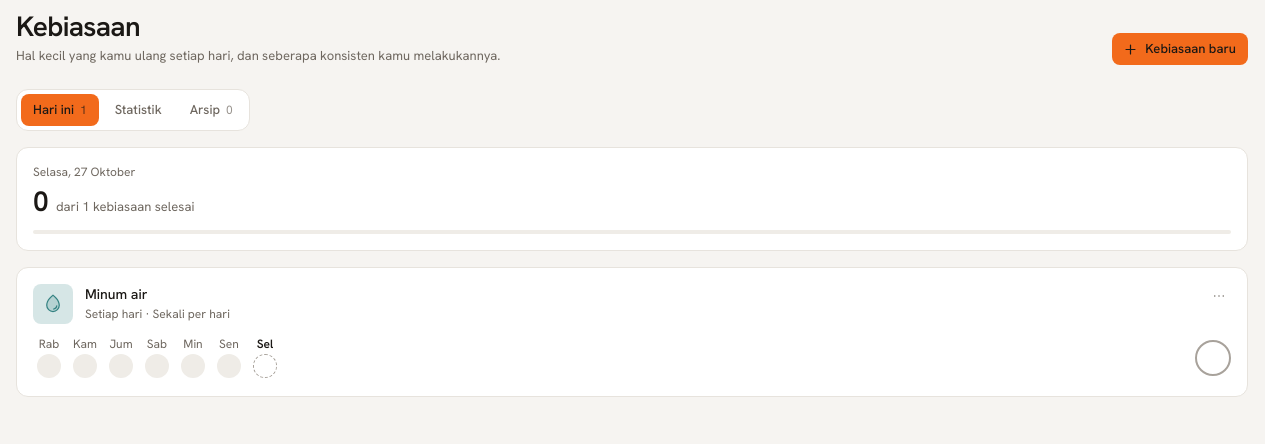
Scenario: today list › checks a plain habit off and takes the check back
Click the button named "Selesaikan Minum air".
click(1213, 358)  # box [1195,340,1231,376]
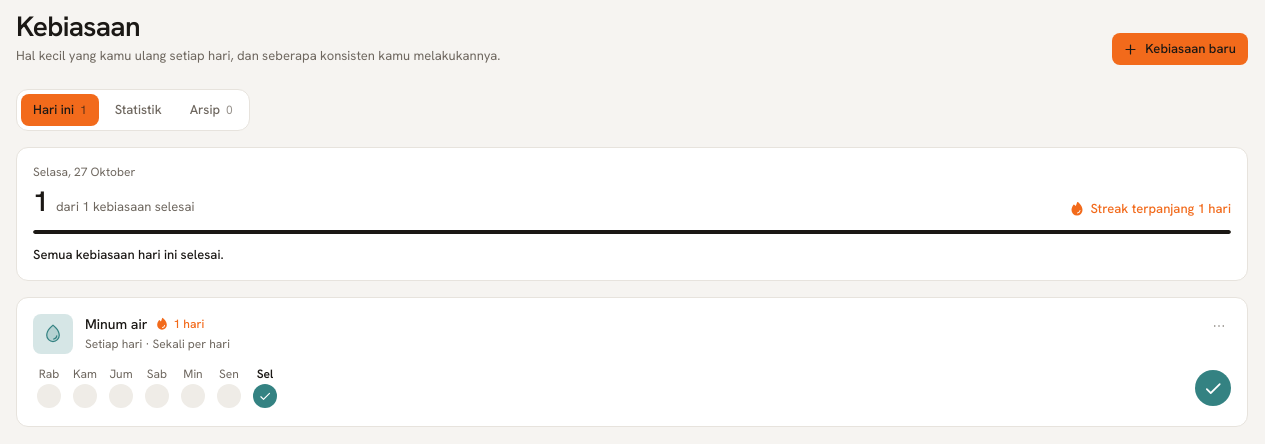
Expected: the text "dari 1 kebiasaan selesai" is shown, [56,198,194,215]
Click the button named "Batalkan Minum air".
click(1213, 388)  # box [1195,370,1231,406]
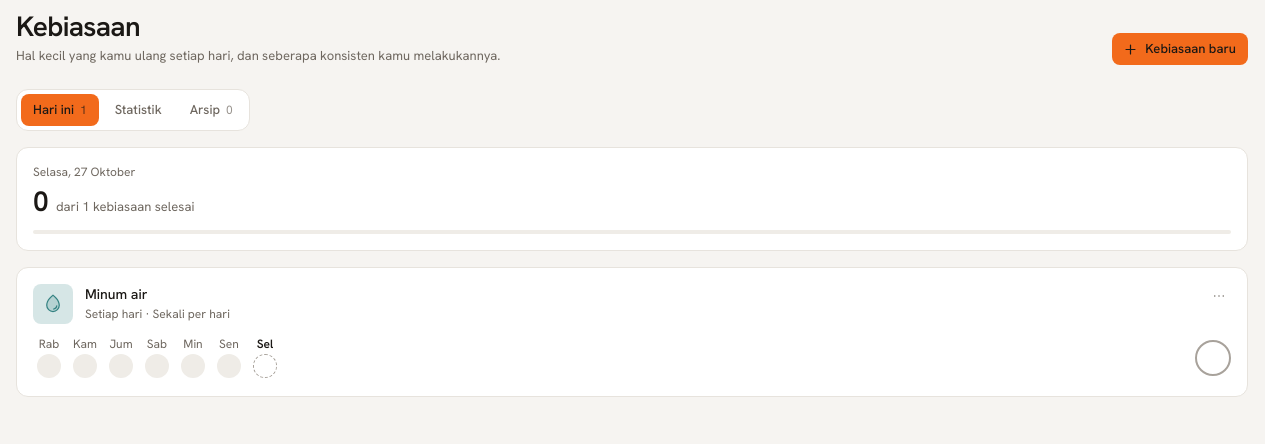
Expected: the button named "Selesaikan Minum air" is shown, [1195,340,1231,376]
